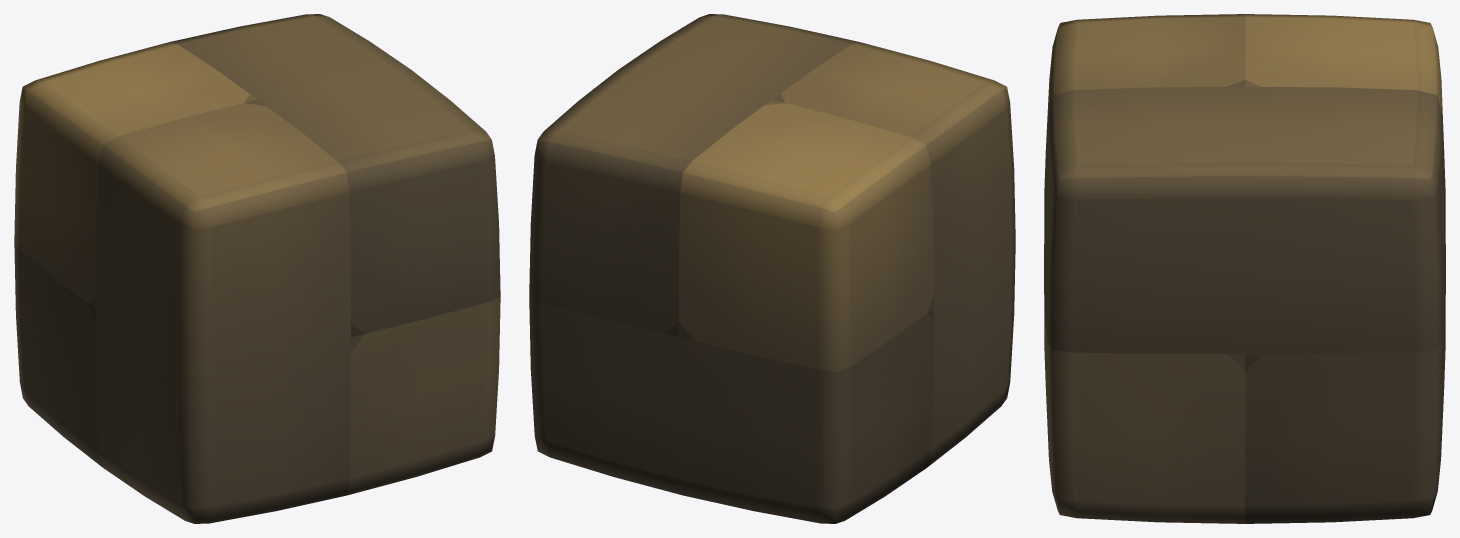
Rendered from block_stone5_1_LOD_setup.fbx.
3 views of the same model, side by side, from view 1: azimuth 30°, elevation 25°; view 2: azimuth 150°, elevation 25°; view 3: azimuth 270°, elevation 25° (orthographic). The views are drawn at different scales.
Parts seen in each view (by area): view 1: block_stone5_1_LOD0; view 2: block_stone5_1_LOD0; view 3: block_stone5_1_LOD0.
Boxes of the visible parts, left/top/right/bottom form: block_stone5_1_LOD0: left=14, top=14, right=500, bottom=523; block_stone5_1_LOD0: left=529, top=14, right=1015, bottom=523; block_stone5_1_LOD0: left=1044, top=14, right=1445, bottom=523.
Size of what is drawn, in the model's own units: 109 by 109 by 109.
